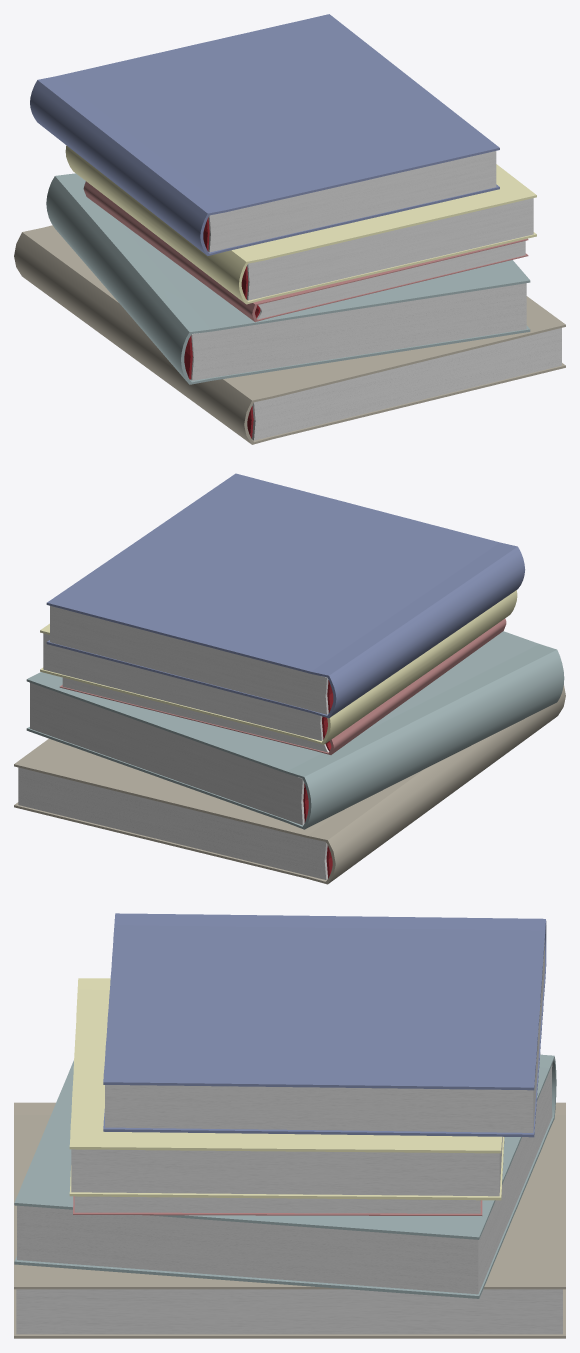
The model's file is Pack De Libros Horizontales.glb.
The picture shows the model from 3 angles, top to bottom: view 1: azimuth 30°, elevation 25°; view 2: azimuth 150°, elevation 25°; view 3: azimuth 270°, elevation 25°; orthographic projection. The views are drawn at different scales.
Parts seen in each view (by area): view 1: fb3e8ebc-0f99-4787-8106-68ee14f6b06a, 8bbf3f57-3703-4504-9926-3cfb67376d9c, a520ec88-59d3-4cce-bd6d-98ed05cecd93, ba67b78e-988b-409c-bfa2-ad276c81f467, d66a0191-6af3-4728-bd15-6c21a352a146, 8ea4219b-83c9-4bc4-a6a7-e1ece07f414a, 17a811f1-c98a-457a-976f-9f0f27ac68ab, 6a709170-da44-4c4e-a9b1-2e334b909842, b31c99d7-1220-4c71-82f0-a7b30affe001, 72497855-702e-4741-9dd7-36ae8e86188d; view 2: fb3e8ebc-0f99-4787-8106-68ee14f6b06a, 8bbf3f57-3703-4504-9926-3cfb67376d9c, a520ec88-59d3-4cce-bd6d-98ed05cecd93, ba67b78e-988b-409c-bfa2-ad276c81f467, d66a0191-6af3-4728-bd15-6c21a352a146, 17a811f1-c98a-457a-976f-9f0f27ac68ab, 6a709170-da44-4c4e-a9b1-2e334b909842, 8ea4219b-83c9-4bc4-a6a7-e1ece07f414a, 72497855-702e-4741-9dd7-36ae8e86188d, b31c99d7-1220-4c71-82f0-a7b30affe001; view 3: fb3e8ebc-0f99-4787-8106-68ee14f6b06a, ba67b78e-988b-409c-bfa2-ad276c81f467, d66a0191-6af3-4728-bd15-6c21a352a146, 17a811f1-c98a-457a-976f-9f0f27ac68ab, 6a709170-da44-4c4e-a9b1-2e334b909842, a520ec88-59d3-4cce-bd6d-98ed05cecd93, 8ea4219b-83c9-4bc4-a6a7-e1ece07f414a, 8bbf3f57-3703-4504-9926-3cfb67376d9c, b31c99d7-1220-4c71-82f0-a7b30affe001, 72497855-702e-4741-9dd7-36ae8e86188d.
Boxes of the visible parts, bbox=[...] form: fb3e8ebc-0f99-4787-8106-68ee14f6b06a: bbox=[30, 14, 499, 255]; 8bbf3f57-3703-4504-9926-3cfb67376d9c: bbox=[46, 173, 530, 384]; a520ec88-59d3-4cce-bd6d-98ed05cecd93: bbox=[14, 225, 565, 444]; ba67b78e-988b-409c-bfa2-ad276c81f467: bbox=[191, 283, 526, 380]; d66a0191-6af3-4728-bd15-6c21a352a146: bbox=[252, 328, 561, 440]; 8ea4219b-83c9-4bc4-a6a7-e1ece07f414a: bbox=[65, 145, 536, 304]; 17a811f1-c98a-457a-976f-9f0f27ac68ab: bbox=[208, 151, 496, 252]; 6a709170-da44-4c4e-a9b1-2e334b909842: bbox=[247, 198, 533, 300]; b31c99d7-1220-4c71-82f0-a7b30affe001: bbox=[257, 241, 525, 319]; 72497855-702e-4741-9dd7-36ae8e86188d: bbox=[83, 181, 528, 321]; fb3e8ebc-0f99-4787-8106-68ee14f6b06a: bbox=[46, 473, 525, 718]; 8bbf3f57-3703-4504-9926-3cfb67376d9c: bbox=[26, 631, 564, 829]; a520ec88-59d3-4cce-bd6d-98ed05cecd93: bbox=[14, 685, 565, 884]; ba67b78e-988b-409c-bfa2-ad276c81f467: bbox=[30, 682, 304, 825]; d66a0191-6af3-4728-bd15-6c21a352a146: bbox=[18, 767, 327, 879]; 17a811f1-c98a-457a-976f-9f0f27ac68ab: bbox=[50, 606, 328, 714]; 6a709170-da44-4c4e-a9b1-2e334b909842: bbox=[43, 633, 323, 740]; 8ea4219b-83c9-4bc4-a6a7-e1ece07f414a: bbox=[40, 590, 517, 744]; 72497855-702e-4741-9dd7-36ae8e86188d: bbox=[59, 618, 506, 754]; b31c99d7-1220-4c71-82f0-a7b30affe001: bbox=[62, 677, 329, 752]; fb3e8ebc-0f99-4787-8106-68ee14f6b06a: bbox=[103, 913, 546, 1137]; ba67b78e-988b-409c-bfa2-ad276c81f467: bbox=[17, 1064, 552, 1294]; d66a0191-6af3-4728-bd15-6c21a352a146: bbox=[16, 1289, 562, 1334]; 17a811f1-c98a-457a-976f-9f0f27ac68ab: bbox=[105, 940, 544, 1132]; 6a709170-da44-4c4e-a9b1-2e334b909842: bbox=[71, 1136, 502, 1196]; a520ec88-59d3-4cce-bd6d-98ed05cecd93: bbox=[14, 1102, 565, 1338]; 8ea4219b-83c9-4bc4-a6a7-e1ece07f414a: bbox=[69, 978, 504, 1200]; 8bbf3f57-3703-4504-9926-3cfb67376d9c: bbox=[14, 1054, 556, 1298]; b31c99d7-1220-4c71-82f0-a7b30affe001: bbox=[74, 1196, 480, 1213]; 72497855-702e-4741-9dd7-36ae8e86188d: bbox=[73, 1196, 482, 1215].
Bounding box in the file's own units: 0.1827 × 0.0933 × 0.1937.
7 materials, 2 textured.
